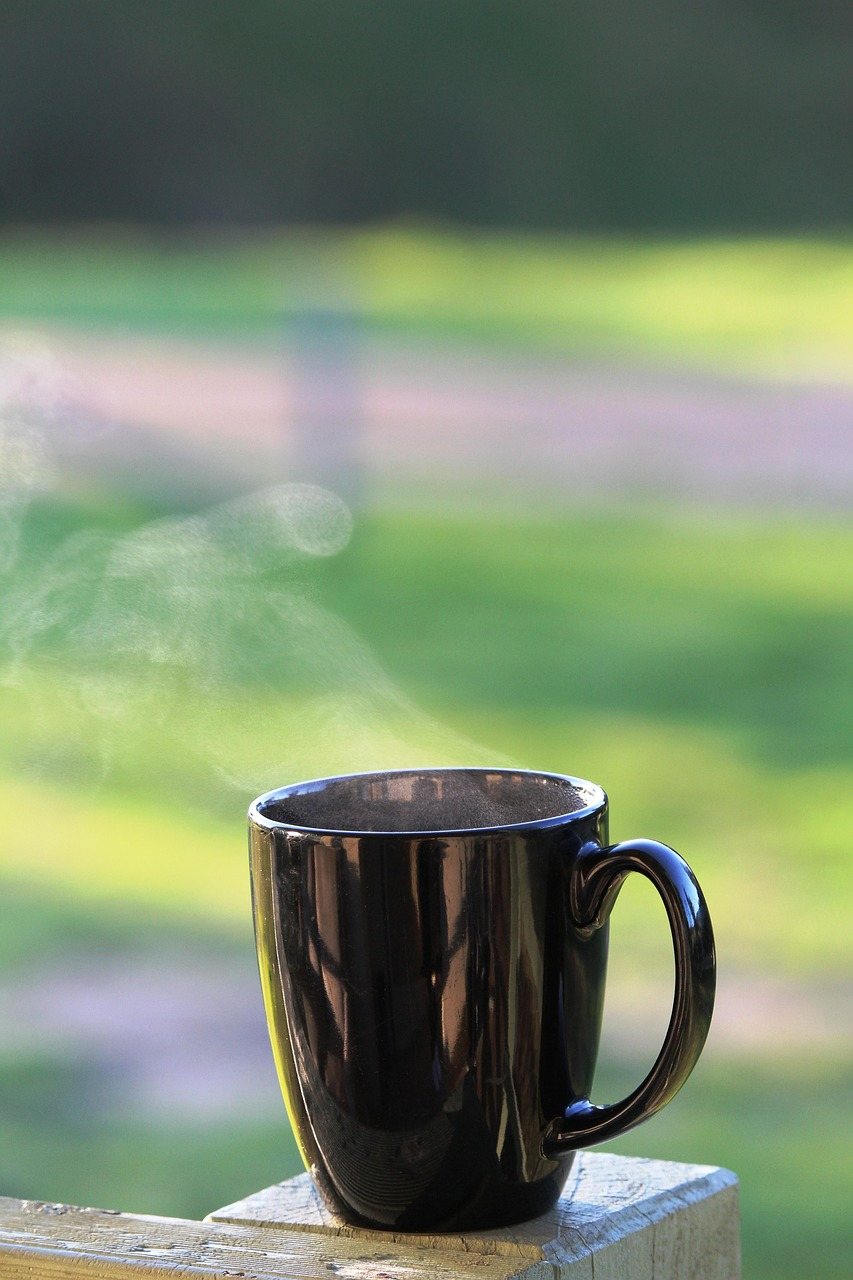mug: (229, 733, 744, 1254)
